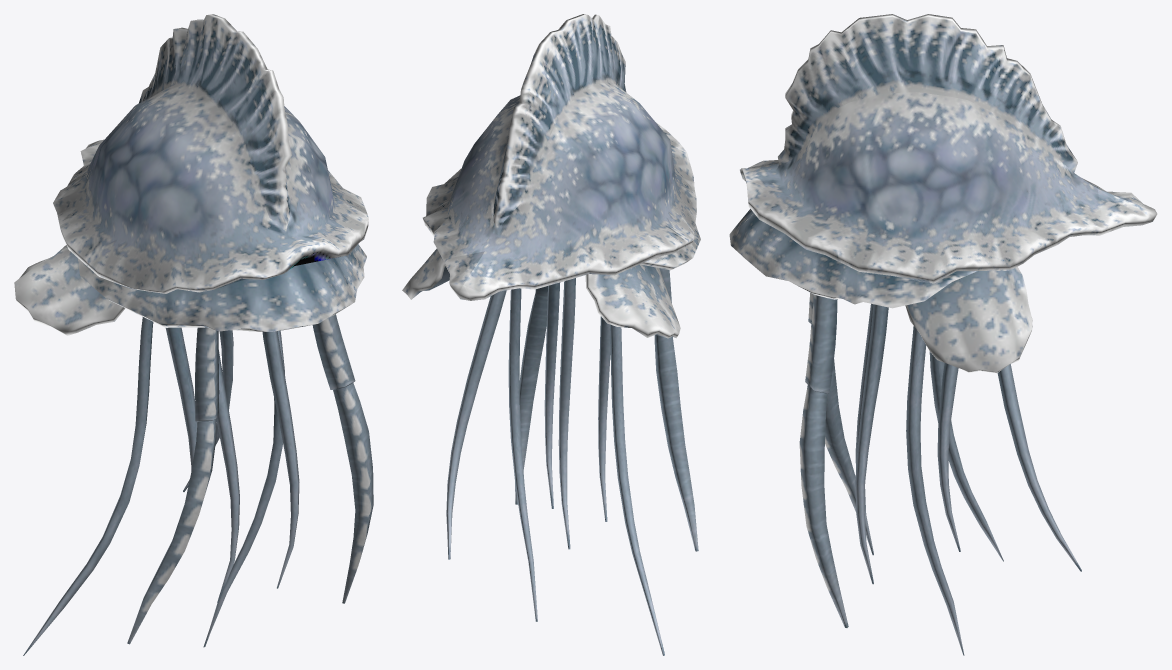
The model's file is 249-manowar.glb.
The picture shows the model from 3 angles, left to right: view 1: azimuth 30°, elevation 25°; view 2: azimuth 150°, elevation 25°; view 3: azimuth 270°, elevation 25°; orthographic projection. The views are drawn at different scales.
Size of the model in its own units: 2.49 by 5.17 by 3.13.
1 material, 1 textured.
